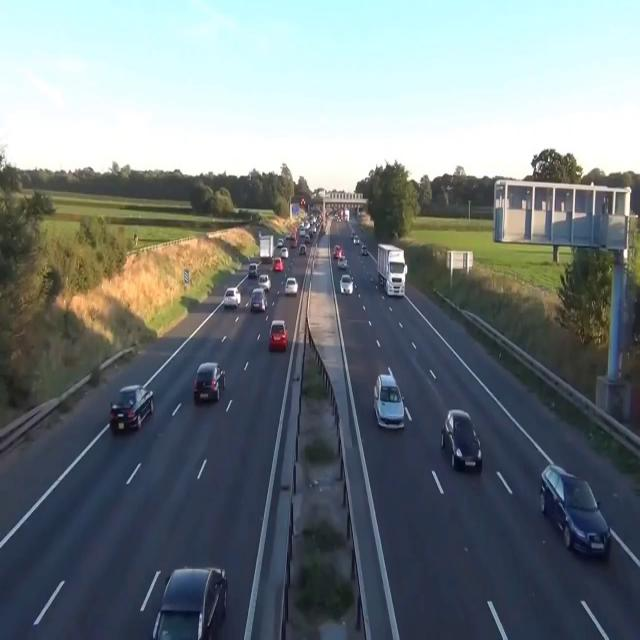belum terisi: (533, 444, 621, 578), (138, 551, 248, 640), (98, 372, 164, 444), (437, 395, 486, 486), (369, 366, 412, 440), (369, 239, 410, 305), (192, 344, 228, 415), (262, 310, 291, 358), (246, 284, 270, 317), (220, 282, 244, 312), (337, 271, 355, 301), (284, 271, 299, 299)
